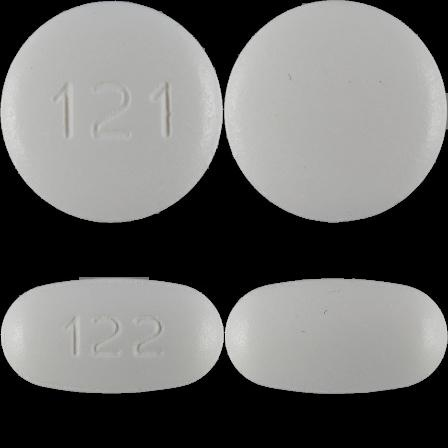68788-9739: (0, 0, 224, 224)
